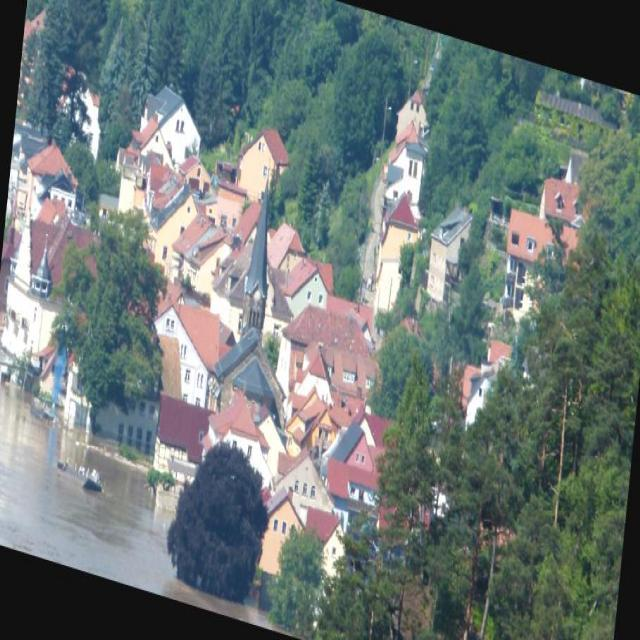flood: (0, 353, 196, 601)
